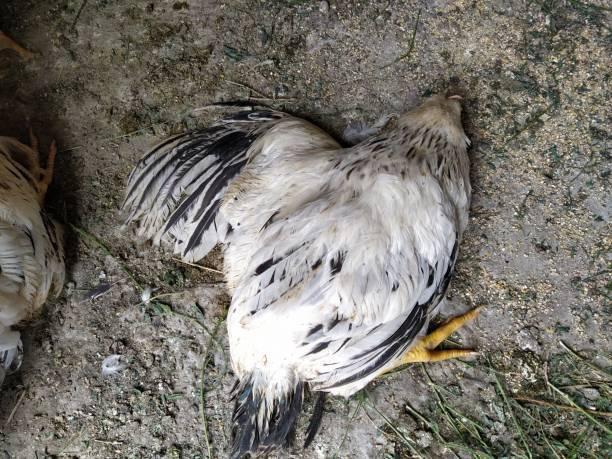AbNormal: (131, 73, 506, 424)
